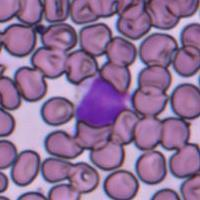M: (75, 73, 127, 127)
